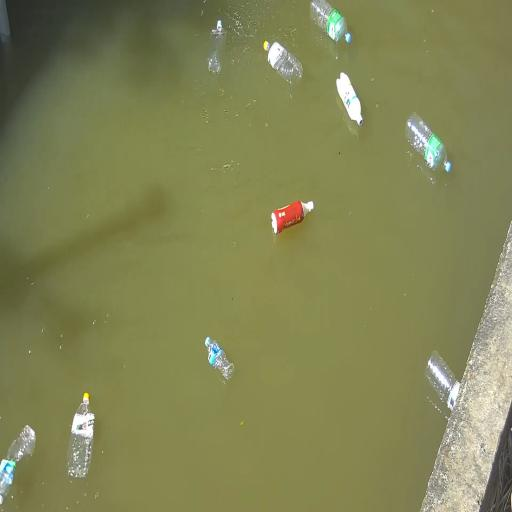plastic: (0, 426, 35, 505), (406, 112, 451, 172), (67, 392, 95, 480), (426, 351, 460, 411), (310, 0, 351, 43), (264, 41, 302, 85), (271, 201, 313, 234), (336, 73, 362, 126), (205, 337, 234, 383), (208, 20, 226, 74)
